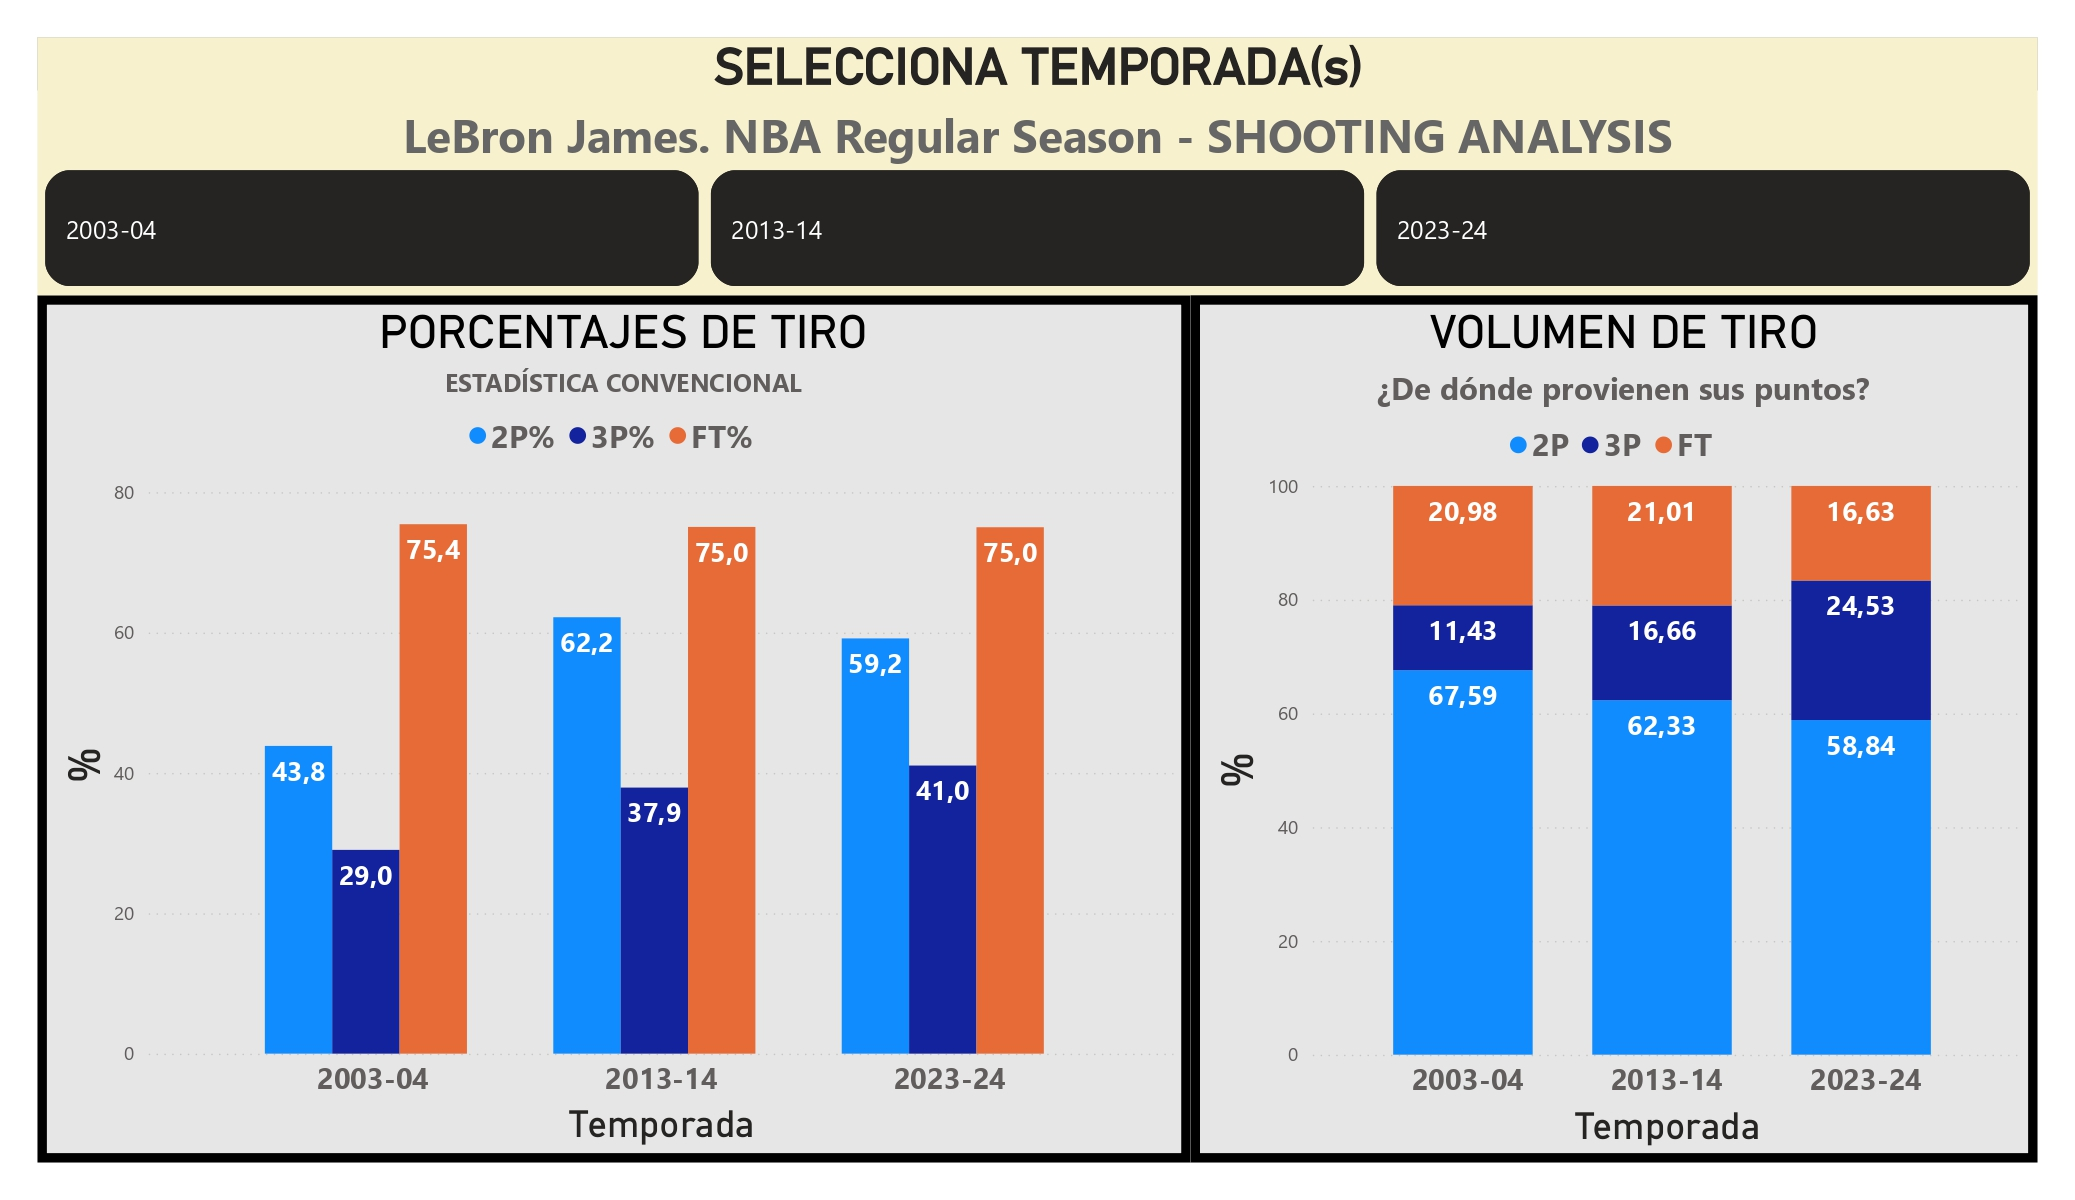

Layout of this report page (visuals, bound fields, positions):
{"tool":"powerbi","page":{"name":"%_TIRO_Convencionales","canvas":[1280,720],"ordinal":1},"visuals":[{"type":"clusteredColumnChart","title":"PORCENTAJES DE TIRO","fields":{"Category":["lebron_career_data.SEASON_ID"],"Y":["lebron_career_data.med_2P%","lebron_career_data.med_3P%","lebron_career_data.med_FT%"]},"box":[0,165,738.3,555],"z":0},{"type":"advancedSlicerVisual","title":"SELECCIONA TEMPORADA(s)","fields":{"Values":["lebron_career_data.SEASON_ID"]},"box":[0,0,1280,165],"z":1000},{"type":"columnChart","title":"VOLUMEN DE TIRO","fields":{"Category":["lebron_career_data.SEASON_ID"],"Y":["lebron_career_data.med_%PTS_2P","lebron_career_data.med_%PTS_3P","lebron_career_data.med_%PTS_FT"]},"box":[738.3,165,541.7,555],"z":2001}]}

Visuals, with their boxes on the page's 1280x720 design canvas (x1, y1, x2, y2). These are canvas units, not pixel positions in the 2075x1200 screenshot, which may show the page scaled, cropped or inside an application window:
"PORCENTAJES DE TIRO" clusteredColumnChart: (x1=0, y1=165, x2=738, y2=720)
"SELECCIONA TEMPORADA(s)" advancedSlicerVisual: (x1=0, y1=0, x2=1280, y2=165)
"VOLUMEN DE TIRO" columnChart: (x1=738, y1=165, x2=1280, y2=720)
